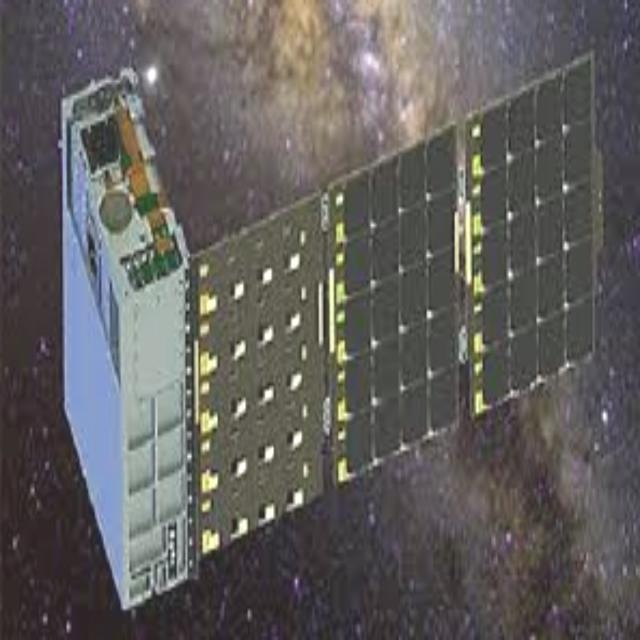satellite: (37, 38, 636, 629)
